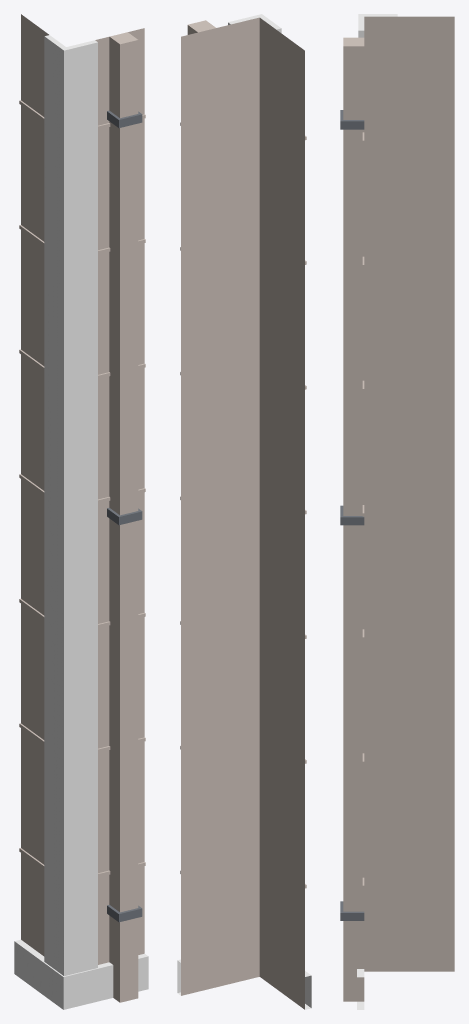
The model's file is mid-c1_close.fbx.
The picture shows the model from 3 angles, left to right: view 1: azimuth 30°, elevation 25°; view 2: azimuth 210°, elevation 25°; view 3: azimuth 270°, elevation 25°; orthographic projection.
Parts seen in each view (by area): view 1: a2000s2/0/mid-c1_close; view 2: a2000s2/0/mid-c1_close; view 3: a2000s2/0/mid-c1_close.
Part boxes in pixels (x1=…): a2000s2/0/mid-c1_close: x1=14, y1=14, x2=148, y2=1009; a2000s2/0/mid-c1_close: x1=177, y1=14, x2=311, y2=1009; a2000s2/0/mid-c1_close: x1=340, y1=14, x2=454, y2=1009.
Size of the model in its own units: 0.325 by 3.5 by 0.38.
